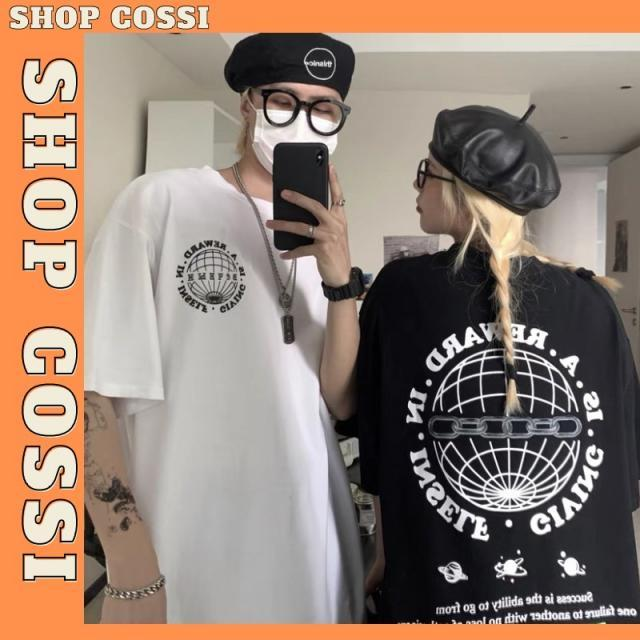Shirt: (80, 158, 370, 625), (350, 240, 640, 632)
